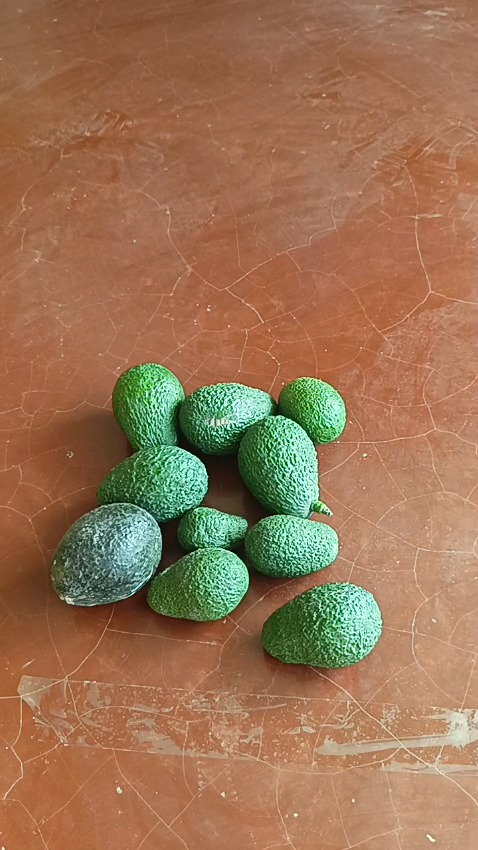Primera: (48, 503, 162, 606), (260, 582, 383, 666), (237, 417, 321, 519), (99, 447, 210, 523), (180, 385, 276, 460), (113, 366, 187, 454)
Segunda: (147, 548, 250, 622), (243, 514, 341, 579), (277, 375, 347, 443)
Tercera: (176, 508, 249, 556)
